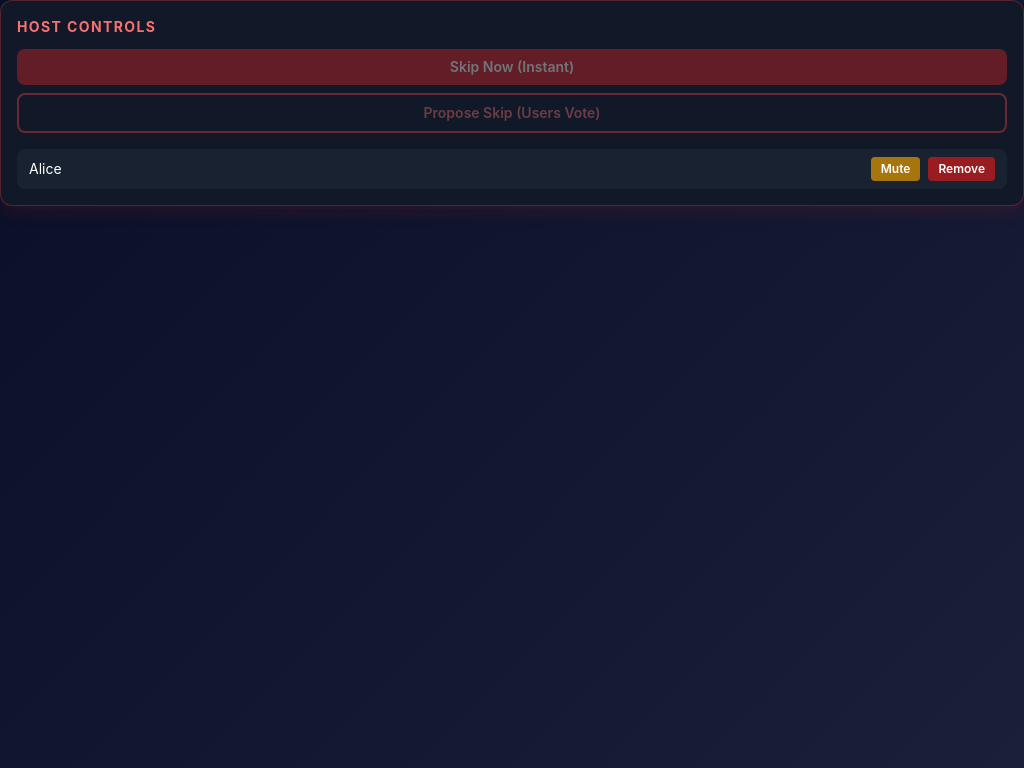
Test: ModerationPanel › displays error message when muteUser fails
Click the button with test id "mute-btn-guest-a": (896, 169) [871,157,920,181]
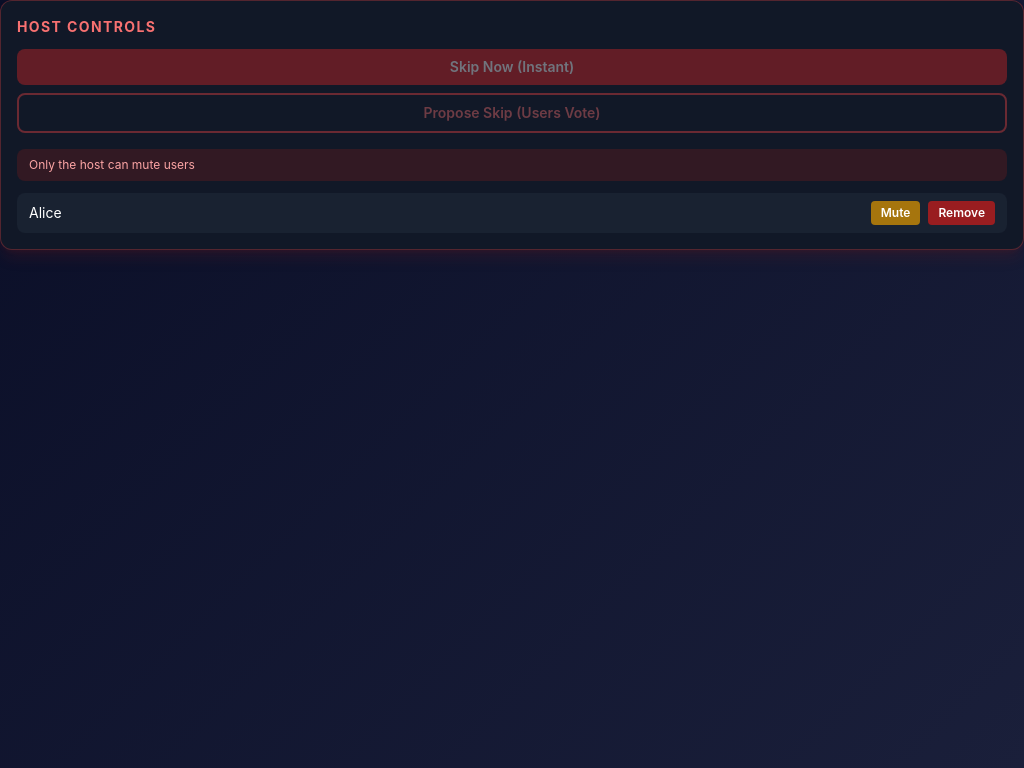
Expected: the text "Only the host can mute users" is shown, [17,149,1007,181]
